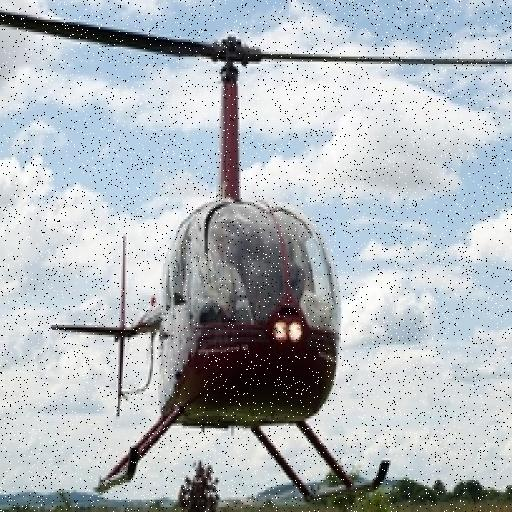helicopter: (1, 11, 512, 510)
